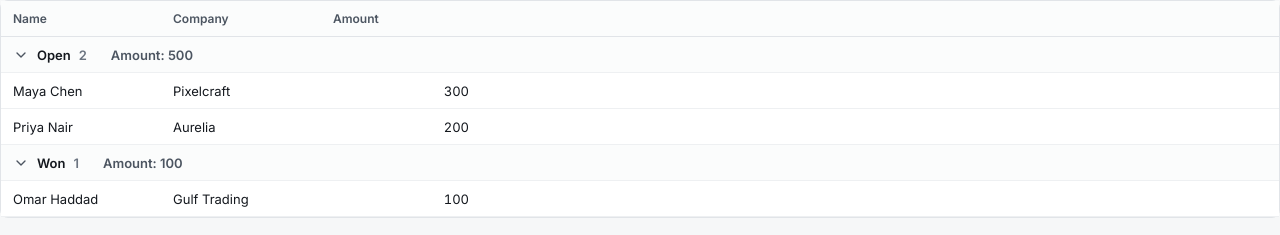
Test: DataGrid (§9.10) › groups rows under collapsible headers with aggregates
Expected: the row "Open 2 Amount: 500" is shown, [1,37,1279,73]
Step 1. Click the button named "Collapse Open" → (21, 54), box [13,46,29,62]
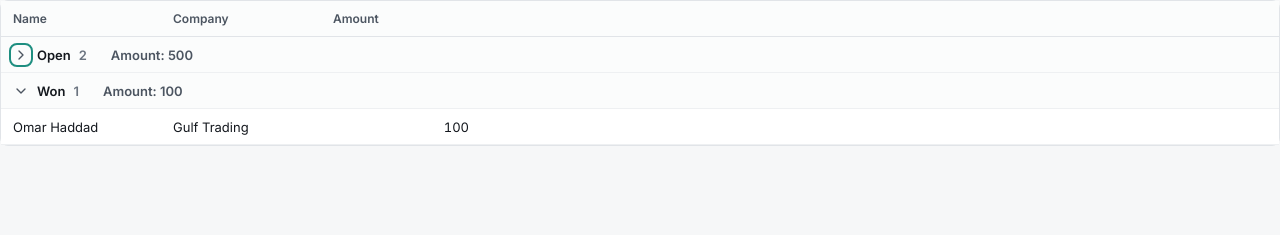
Expected: the text "Omar Haddad" is shown, [13,118,98,136]
Result: the text "Maya Chen" is gone
Step 2. Click the button named "Expand Open" → (21, 54), box [13,46,29,62]
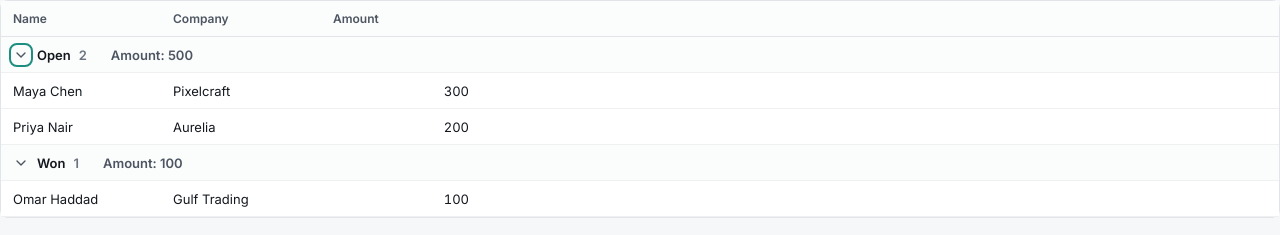
Result: the text "Maya Chen" is shown at [13,82,82,100]
